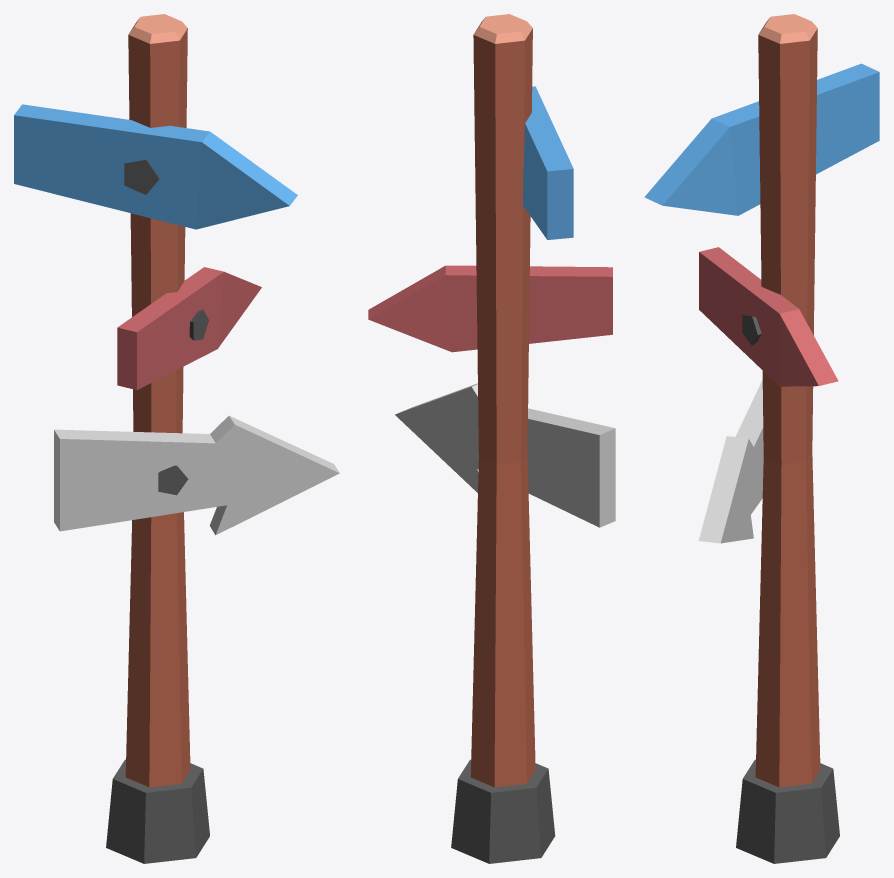
Rendered from props_075.glb.
3 views of the same model, side by side, from view 1: azimuth 30°, elevation 25°; view 2: azimuth 150°, elevation 25°; view 3: azimuth 270°, elevation 25° (orthographic).
Parts seen in each view (by area): view 1: props_075; view 2: props_075; view 3: props_075.
Part boxes in pixels (bbox=[...]): props_075: bbox=[14, 14, 339, 863]; props_075: bbox=[368, 14, 615, 863]; props_075: bbox=[644, 14, 879, 863].
Size of the model in its own units: 1.53 by 4.8 by 1.25.
Materials: 1 (1 with a texture image).
